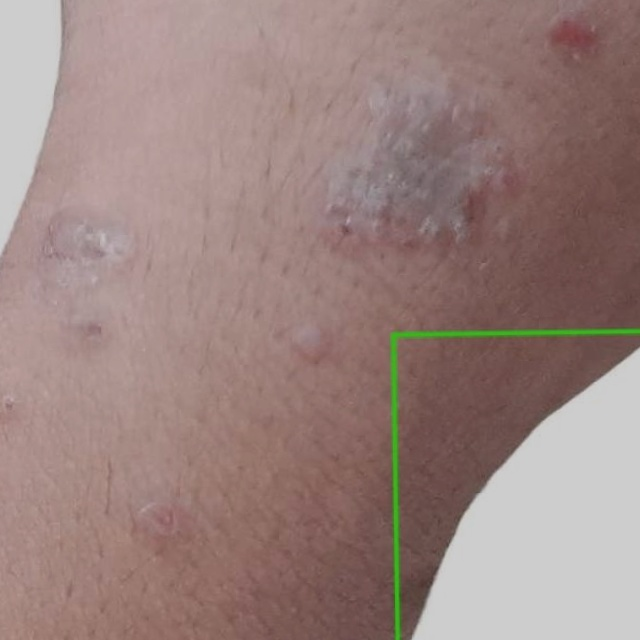Contact Dermatitis: (393, 330, 639, 639)
